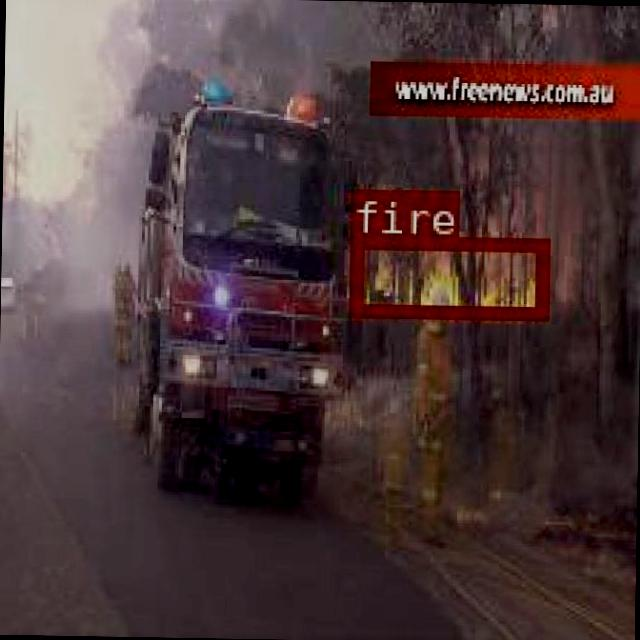fire: (348, 234, 547, 316)
